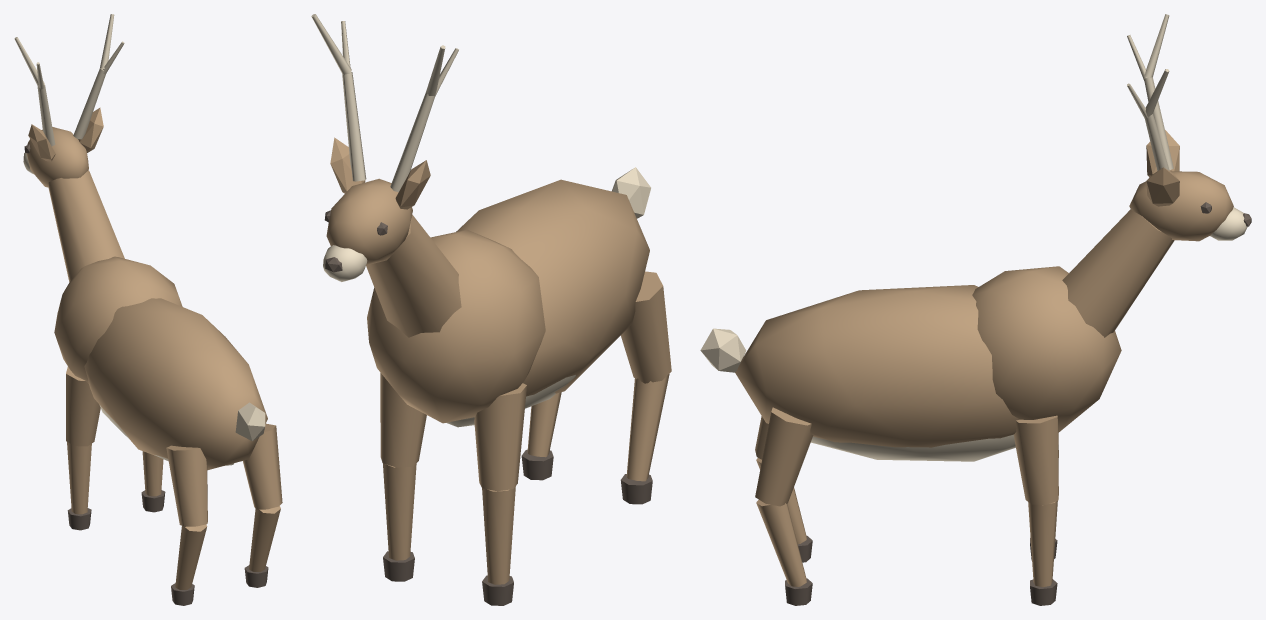
Rendered from grazer.fbx.
3 views of the same model, side by side, from view 1: azimuth 30°, elevation 25°; view 2: azimuth 150°, elevation 25°; view 3: azimuth 270°, elevation 25° (orthographic). The views are drawn at different scales.
Visible parts, largest first — view 1: grazer; view 2: grazer; view 3: grazer.
Boxes of the visible parts, <box> form: grazer: <box>14,14,282,605</box>; grazer: <box>311,14,671,605</box>; grazer: <box>700,14,1251,605</box>.
Bounding box in the file's own units: 0.8128 × 3.06 × 2.84.
